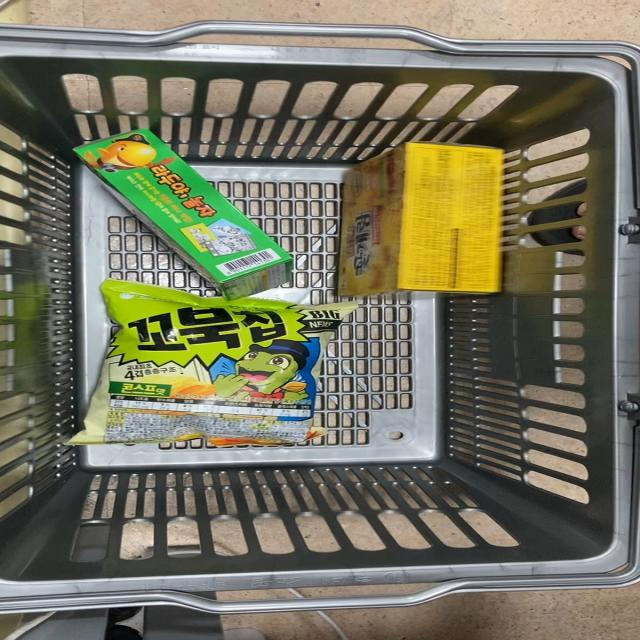ggobukchip: (110, 284, 334, 459)
goraebob: (45, 116, 288, 284)
minicrab: (309, 130, 509, 298)
